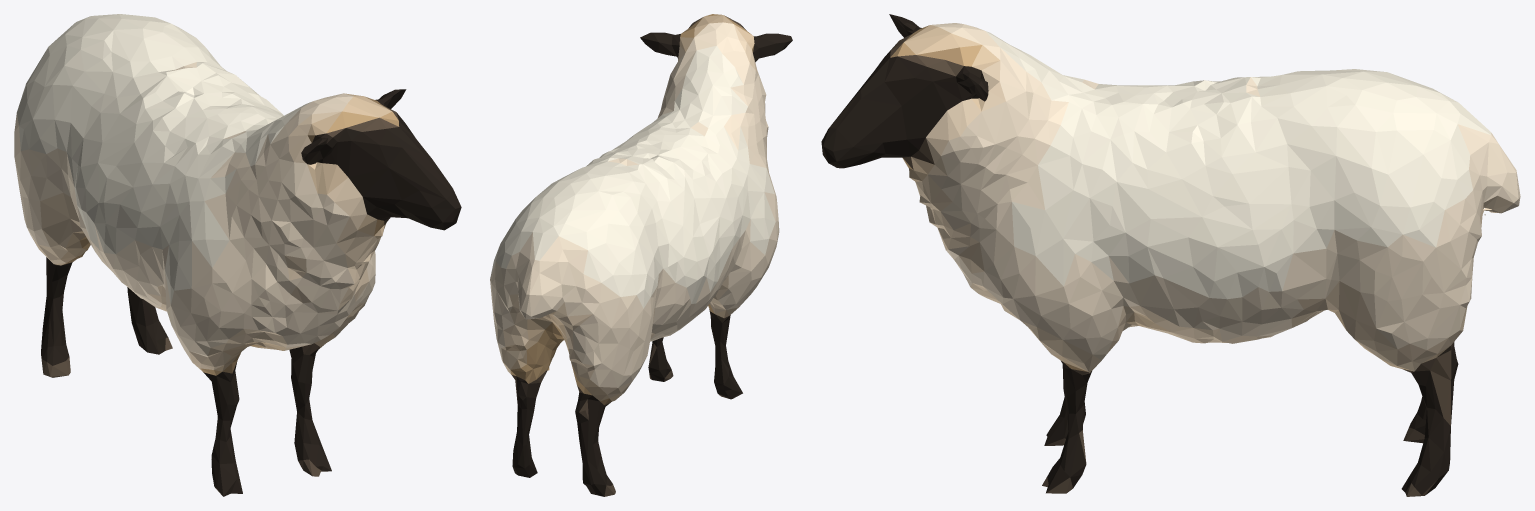
Rendered from low-poly-sheep.glb.
3 renders of one model, left to right at view 1: azimuth 30°, elevation 25°; view 2: azimuth 150°, elevation 25°; view 3: azimuth 270°, elevation 25°, orthographic. The views are drawn at different scales.
Parts seen in each view (by area): view 1: low-poly-sheep; view 2: low-poly-sheep; view 3: low-poly-sheep.
Part boxes in pixels (left/top/right/bottom): low-poly-sheep: left=14, top=14, right=461, bottom=496; low-poly-sheep: left=490, top=14, right=792, bottom=496; low-poly-sheep: left=821, top=14, right=1520, bottom=496.
Bounding box in the file's own units: 0.4647 × 0.9176 × 1.29.
Materials: 1 (1 with a texture image).
